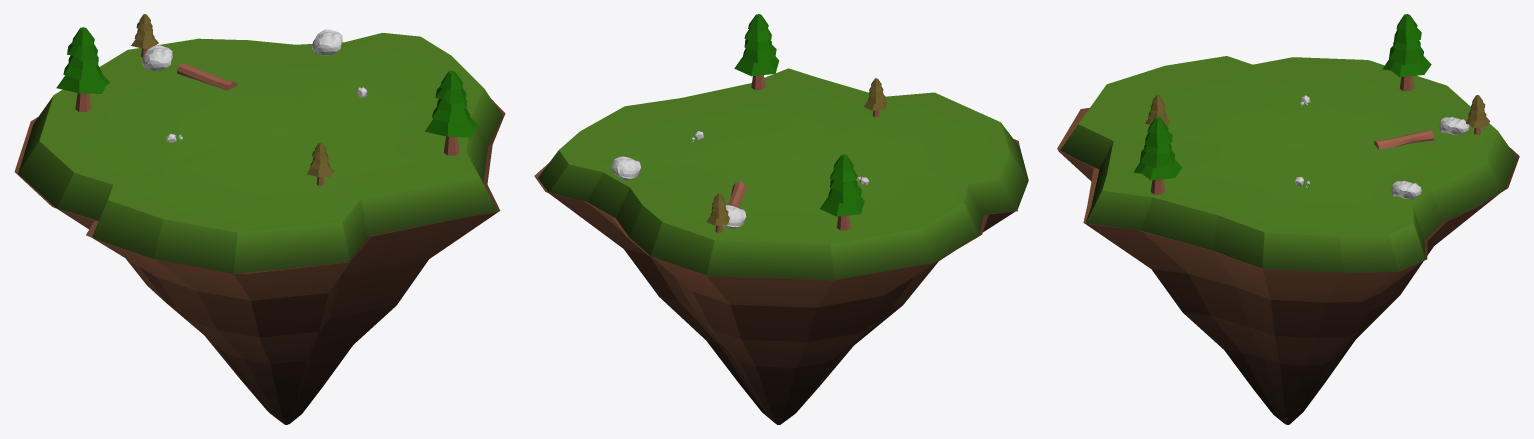
File: table_green_plains.glb
3 renders of one model, left to right at view 1: azimuth 30°, elevation 25°; view 2: azimuth 150°, elevation 25°; view 3: azimuth 270°, elevation 25°, orthographic. The views are drawn at different scales.
Visible parts, largest first — view 1: Vert.001, Vert, Tree.001, Tree.005, Cylinder.001, Tree.002, Icosphere.001, Icosphere.020, Tree.003; view 2: Vert.001, Vert, Tree.005, Tree.001, Icosphere.001, Tree.003, Tree.002; view 3: Vert.001, Vert, Tree.001, Tree.005, Cylinder.001, Tree.003, Icosphere.001, Icosphere.020.
Part boxes in pixels (x1,y1,x2,y2): Vert.001: (18, 32, 502, 273); Vert: (14, 100, 505, 424); Tree.001: (425, 70, 478, 155); Tree.005: (56, 27, 109, 111); Cylinder.001: (177, 63, 237, 90); Tree.002: (306, 142, 334, 185); Icosphere.001: (311, 29, 342, 55); Icosphere.020: (142, 45, 172, 70); Tree.003: (131, 14, 158, 57); Vert.001: (538, 68, 1028, 279); Vert: (534, 139, 1019, 424); Tree.005: (820, 154, 864, 230); Tree.001: (734, 14, 779, 90); Icosphere.001: (611, 156, 640, 179); Tree.003: (706, 193, 729, 232); Tree.002: (864, 78, 886, 116); Vert.001: (1059, 56, 1517, 273); Vert: (1057, 107, 1519, 424); Tree.001: (1133, 117, 1182, 194); Tree.005: (1382, 14, 1431, 91); Cylinder.001: (1374, 130, 1434, 149); Tree.003: (1466, 95, 1490, 134); Icosphere.001: (1391, 181, 1421, 199); Icosphere.020: (1439, 117, 1469, 135).
Bounding box in the file's own units: 7.31 × 5.92 × 7.14.
15 materials, 2 textured.
